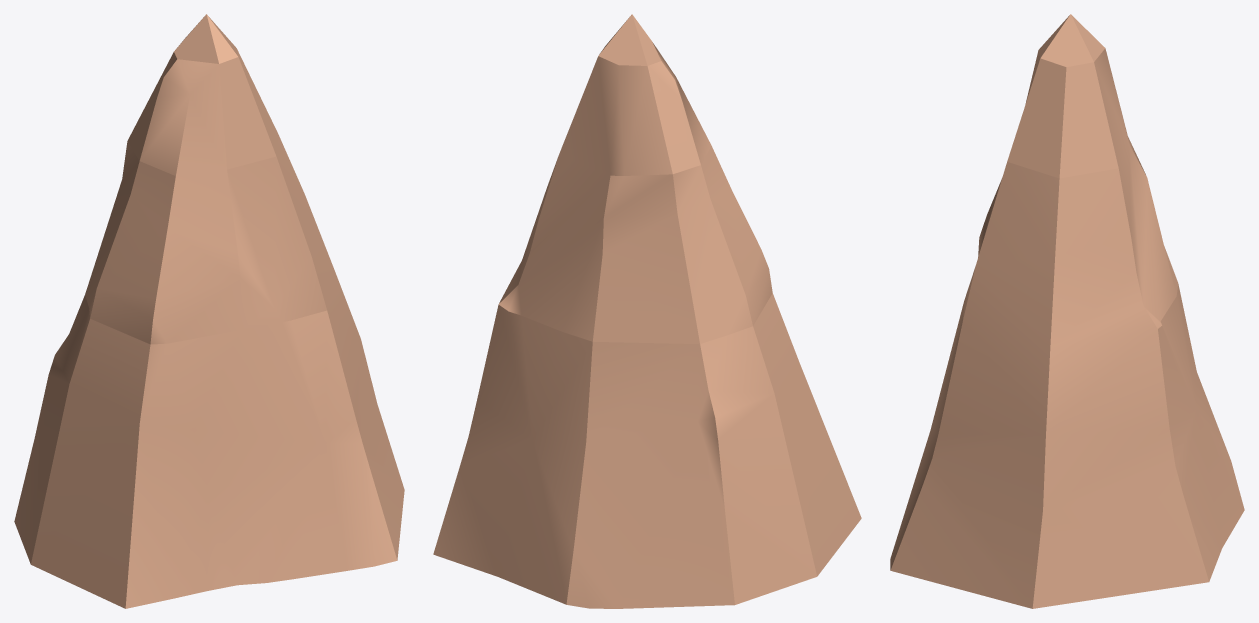
The model's file is SM_Boulder2_LOD0.fbx.
3 renders of one model, left to right at view 1: azimuth 30°, elevation 25°; view 2: azimuth 150°, elevation 25°; view 3: azimuth 270°, elevation 25°, orthographic. The views are drawn at different scales.
Parts seen in each view (by area): view 1: SM_Boulder2_LOD0; view 2: SM_Boulder2_LOD0; view 3: SM_Boulder2_LOD0.
Boxes of the visible parts, x1,y1,x2,y2 form: SM_Boulder2_LOD0: (14, 14, 404, 608); SM_Boulder2_LOD0: (433, 14, 861, 608); SM_Boulder2_LOD0: (890, 14, 1244, 608).
Bounding box in the file's own units: 7.45 × 10.08 × 6.38.
